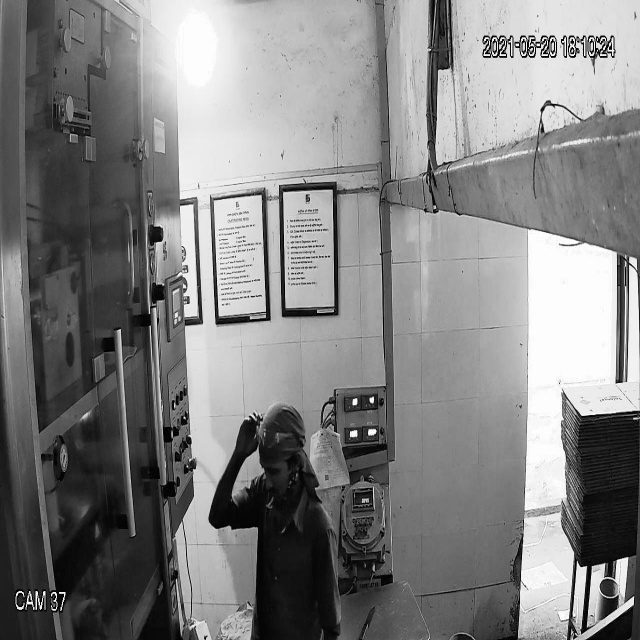Sin_gafas: (256, 453, 295, 487)
